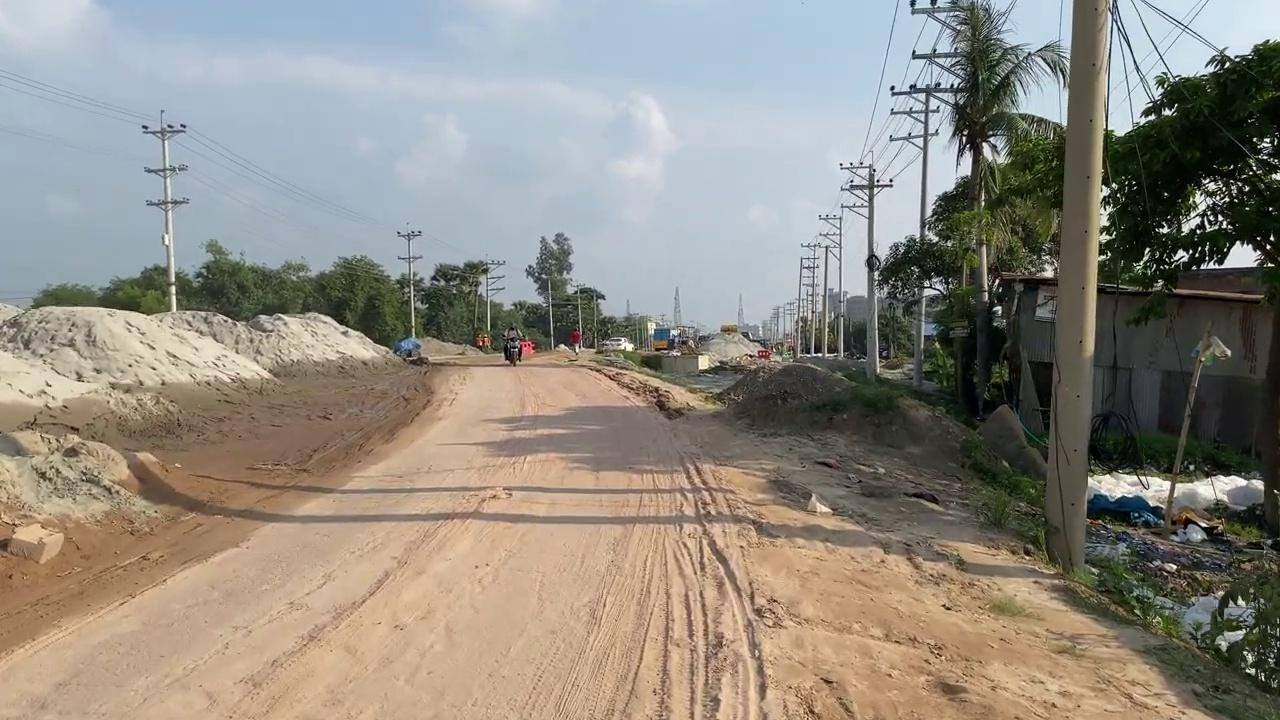Car: (601, 336, 634, 352)
Motorcycle: (501, 334, 521, 365)
Obstacle: (639, 349, 709, 375)
Pole: (1041, 0, 1112, 577)
Traffic-sign: (904, 0, 1070, 416), (524, 231, 573, 350)
Tree: (648, 314, 672, 352)
Upstairs: (996, 270, 1277, 462)
